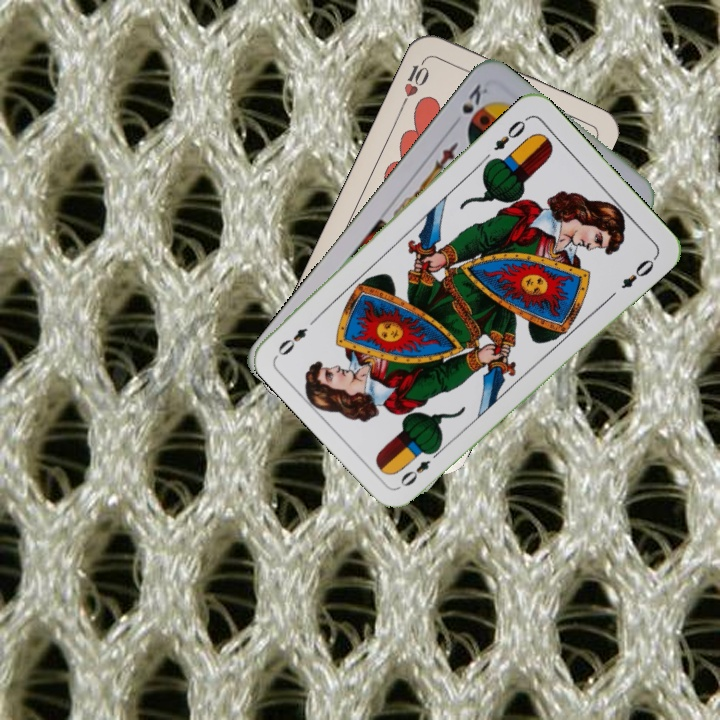EO: (396, 444, 444, 490), (489, 113, 531, 154)
H10: (397, 53, 432, 108)
SK: (447, 79, 491, 130)
